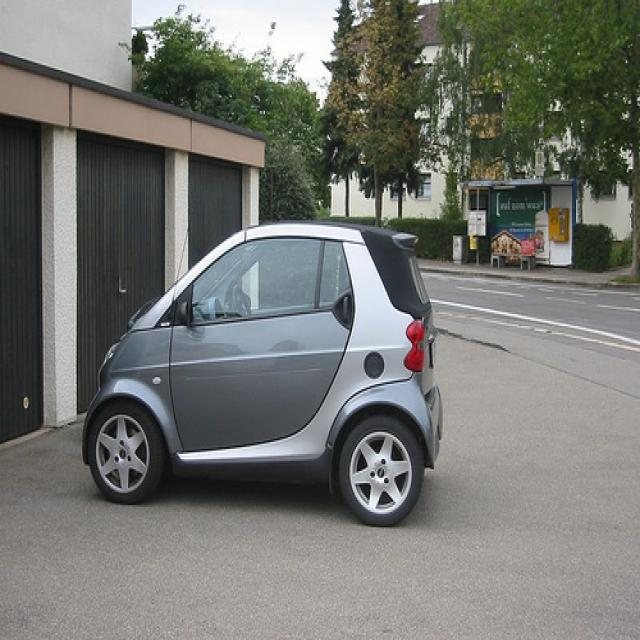Car: (81, 218, 438, 528)
